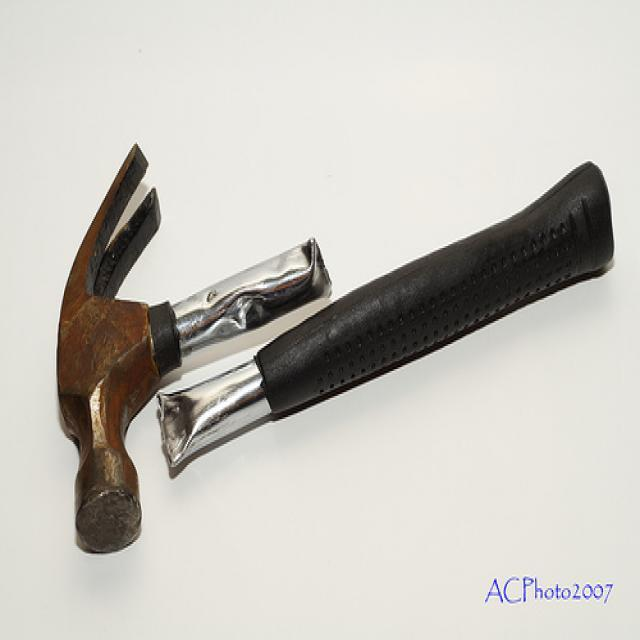hammer: (39, 118, 208, 582)
